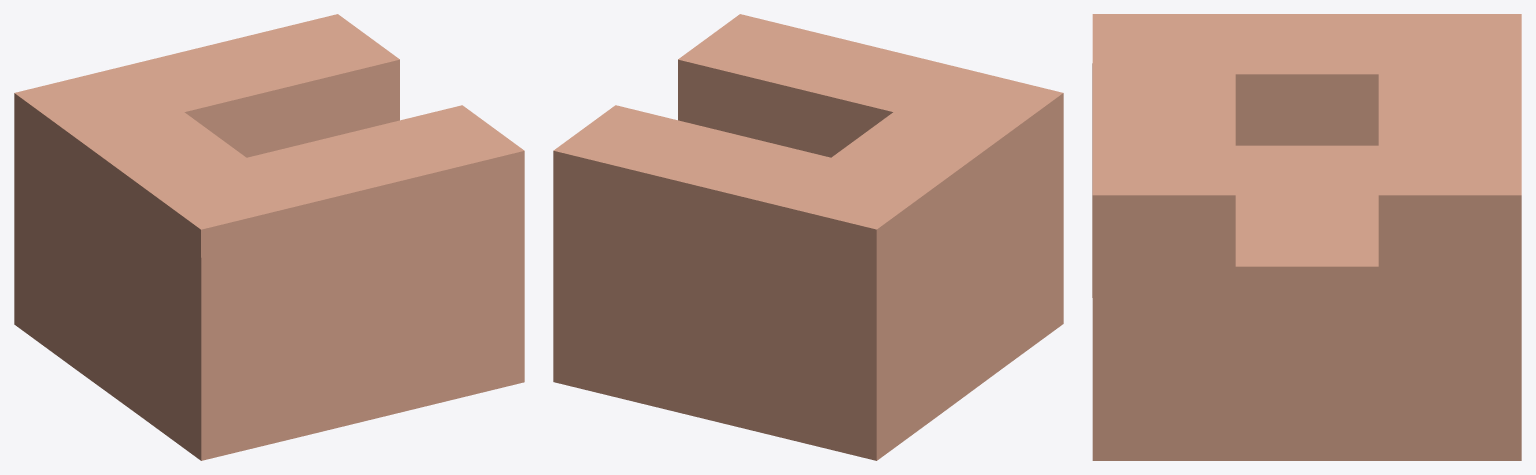
Rendered from EndBlock.fbx.
3 views of the same model, side by side, from view 1: azimuth 30°, elevation 25°; view 2: azimuth 150°, elevation 25°; view 3: azimuth 270°, elevation 25° (orthographic). The views are drawn at different scales.
Parts seen in each view (by area): view 1: Cube.001; view 2: Cube.001; view 3: Cube.001.
Part boxes in pixels (left/top/right/bottom): Cube.001: left=14, top=14, right=524, bottom=460; Cube.001: left=553, top=14, right=1063, bottom=460; Cube.001: left=1092, top=14, right=1521, bottom=460.
Bounding box in the file's own units: 400 × 273 × 400.
